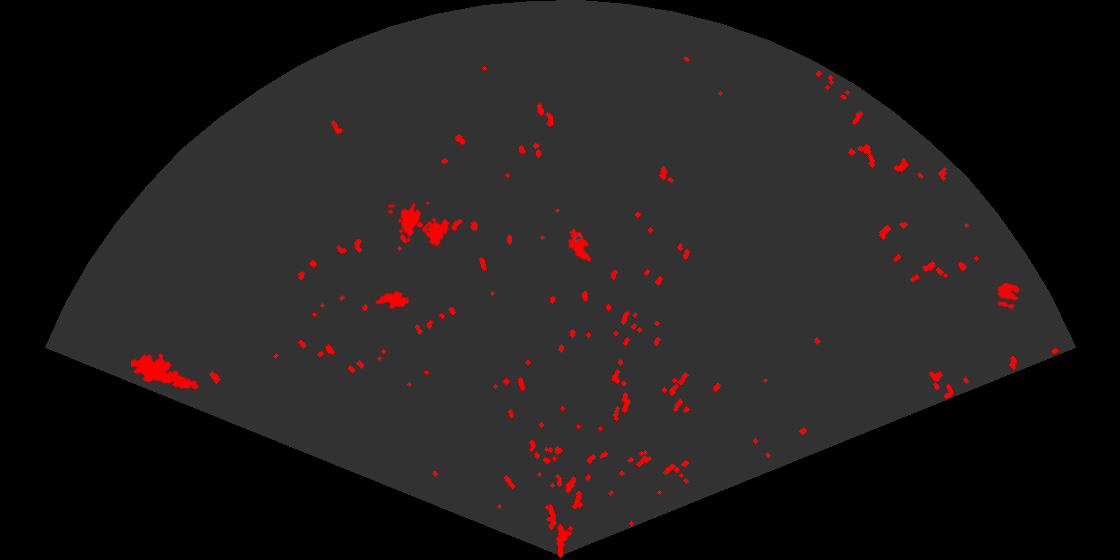AUV: (566, 227, 593, 264), (374, 289, 411, 311)
ball: (995, 281, 1022, 311)
cage: (388, 202, 452, 248)
frogman: (131, 351, 200, 391)
